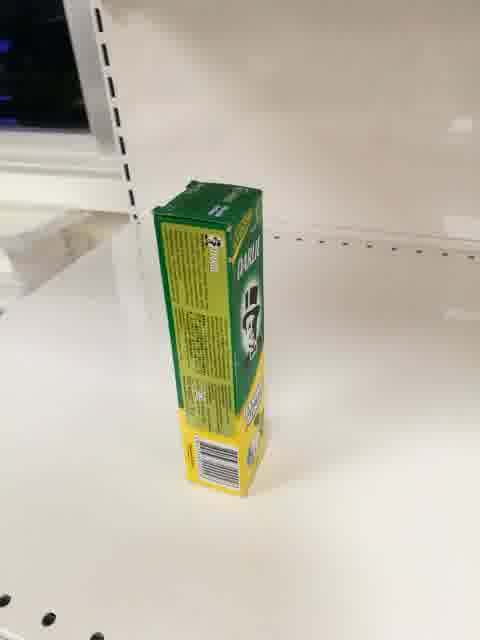toothpaste: (153, 180, 265, 500)
